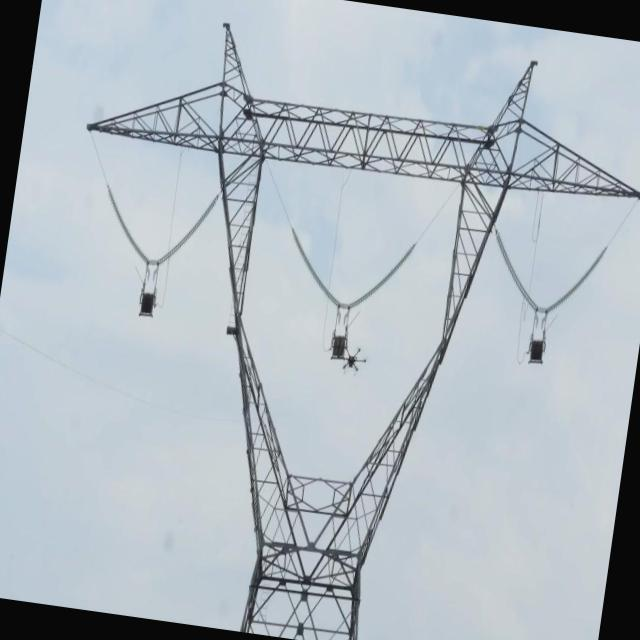drone: (340, 344, 369, 378)
